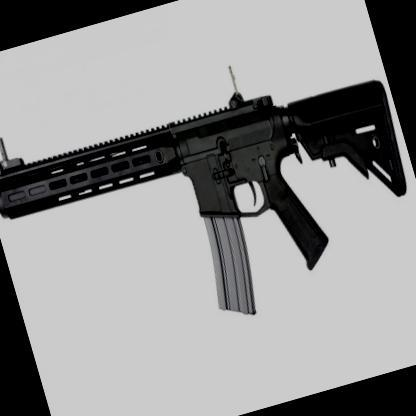rifle: (0, 31, 416, 359)
